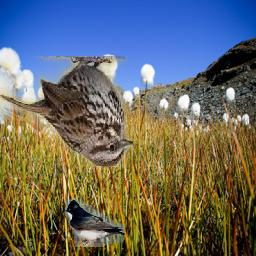Sparrow: (1, 57, 134, 168)
Swallow: (65, 199, 125, 247)
